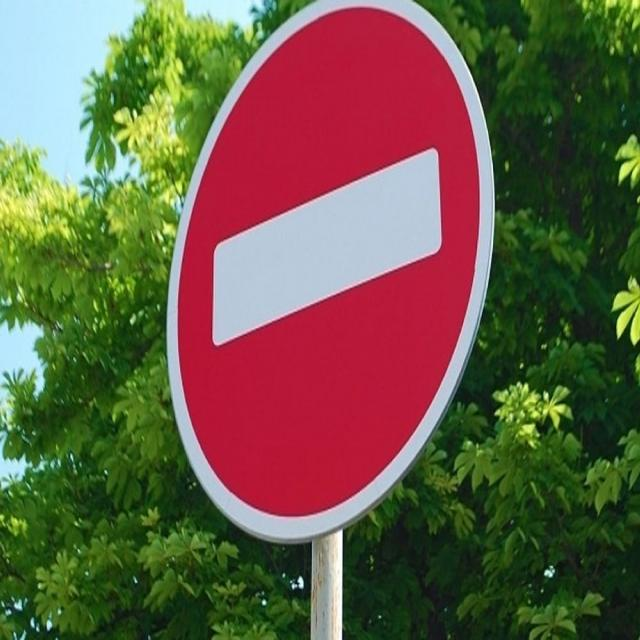no entry: (163, 0, 498, 554)
